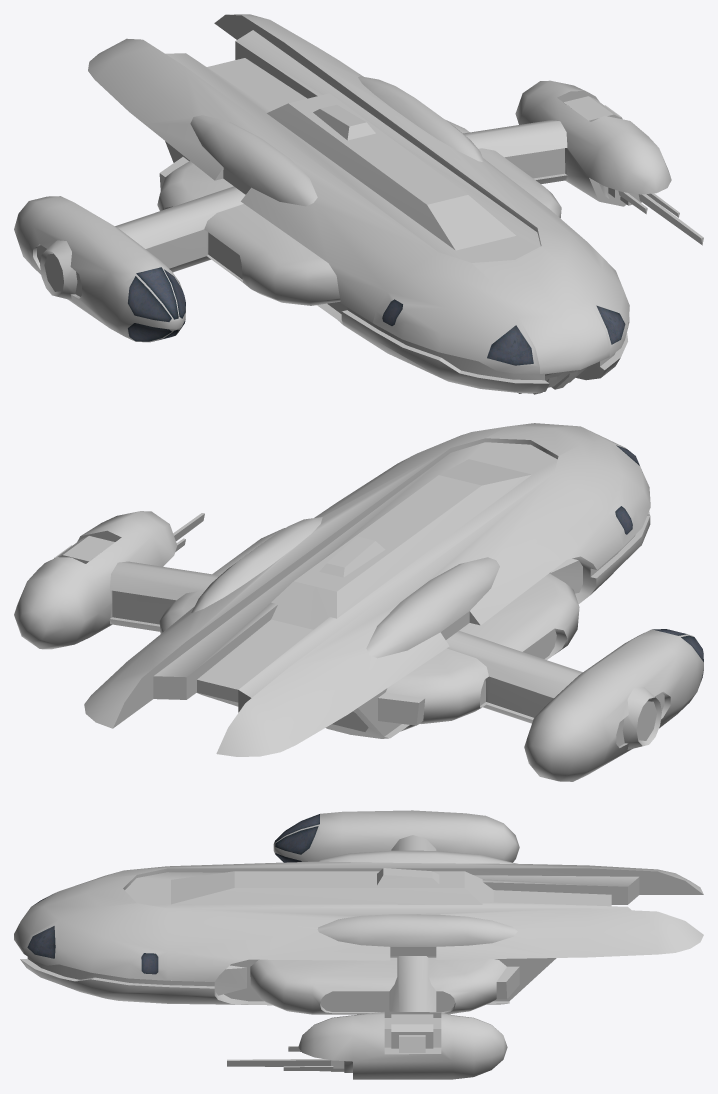
The model's file is ykl37r_npc_l1.fbx.
3 renders of one model, top to bottom at view 1: azimuth 30°, elevation 25°; view 2: azimuth 150°, elevation 25°; view 3: azimuth 270°, elevation 25°, orthographic. The views are drawn at different scales.
Parts seen in each view (by area): view 1: mesh_node; view 2: mesh_node; view 3: mesh_node.
Boxes of the visible parts, box(x1,y1,x2,y2) form: mesh_node: box(14, 14, 703, 394); mesh_node: box(14, 423, 703, 781); mesh_node: box(14, 810, 703, 1079).
Bounding box in the file's own units: 39.5 × 10.08 × 49.9.
